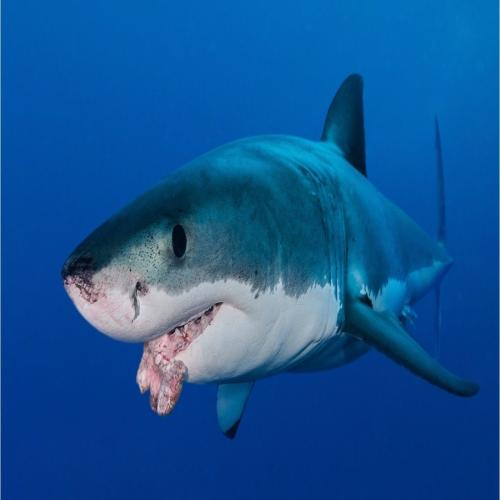shark-endangered: (58, 111, 447, 395)
